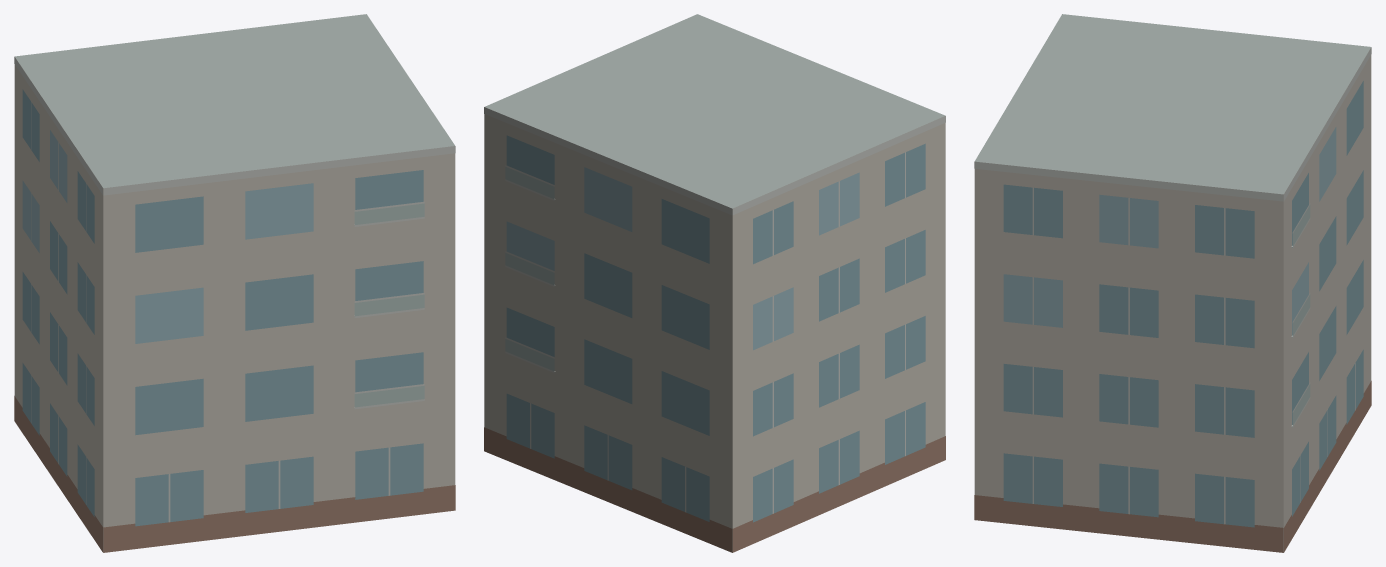
Rendered from residential-f0281eda-1ba2-486f-90c3-78e0f4cf9bdd.glb.
3 views of the same model, side by side, from view 1: azimuth 30°, elevation 25°; view 2: azimuth 150°, elevation 25°; view 3: azimuth 270°, elevation 25° (orthographic). The views are drawn at different scales.
Parts seen in each view (by area): view 1: residential-f0281eda-1ba2-486f-90c3-78e0f4cf9bdd.tmp; view 2: residential-f0281eda-1ba2-486f-90c3-78e0f4cf9bdd.tmp; view 3: residential-f0281eda-1ba2-486f-90c3-78e0f4cf9bdd.tmp.
Boxes of the visible parts, <box> form: residential-f0281eda-1ba2-486f-90c3-78e0f4cf9bdd.tmp: <box>14,14,455,552</box>; residential-f0281eda-1ba2-486f-90c3-78e0f4cf9bdd.tmp: <box>484,14,945,552</box>; residential-f0281eda-1ba2-486f-90c3-78e0f4cf9bdd.tmp: <box>974,14,1371,552</box>.
Size of the model in its own units: 13.18 by 12.2 by 12.26.
